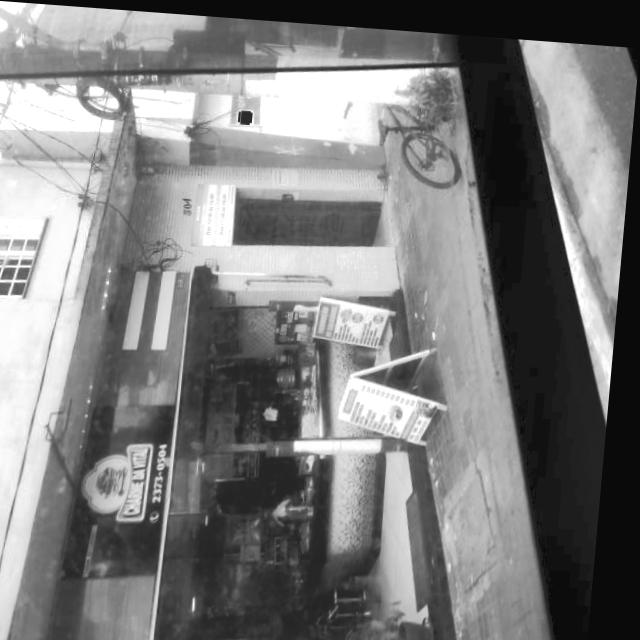qr_code: (241, 105, 254, 119)
